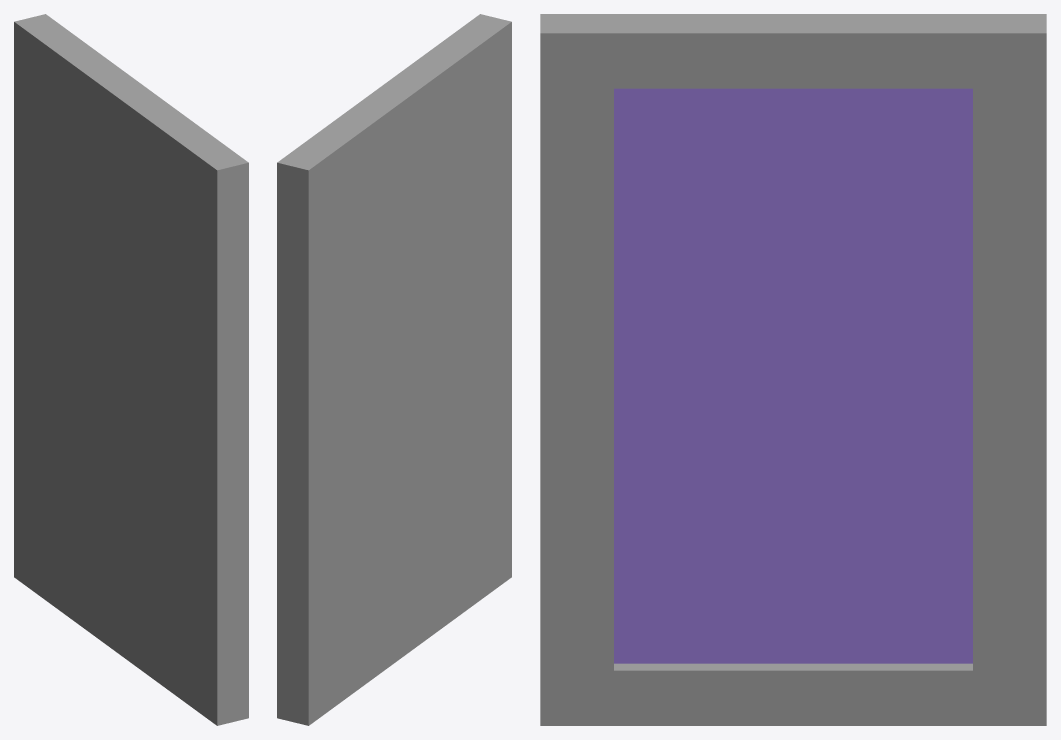
The model's file is tableau2.fbx.
3 renders of one model, left to right at view 1: azimuth 30°, elevation 25°; view 2: azimuth 150°, elevation 25°; view 3: azimuth 270°, elevation 25°, orthographic. The views are drawn at different scales.
Visible parts, largest first — view 1: tableau2; view 2: tableau2; view 3: tableau2.
Part boxes in pixels (x1,y1,x2,y2): tableau2: (14, 14, 248, 725); tableau2: (277, 14, 511, 725); tableau2: (540, 14, 1046, 725).
Size of the model in its own units: 3.92 by 65.83 by 43.62.
